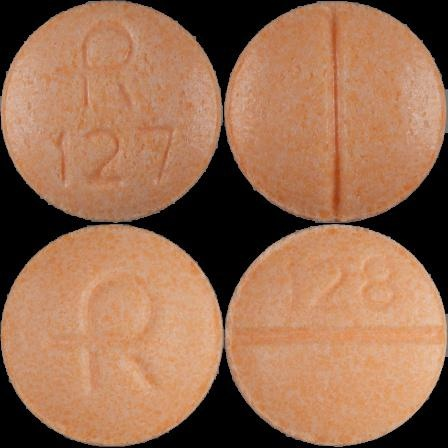76237-141: (0, 0, 224, 224)
